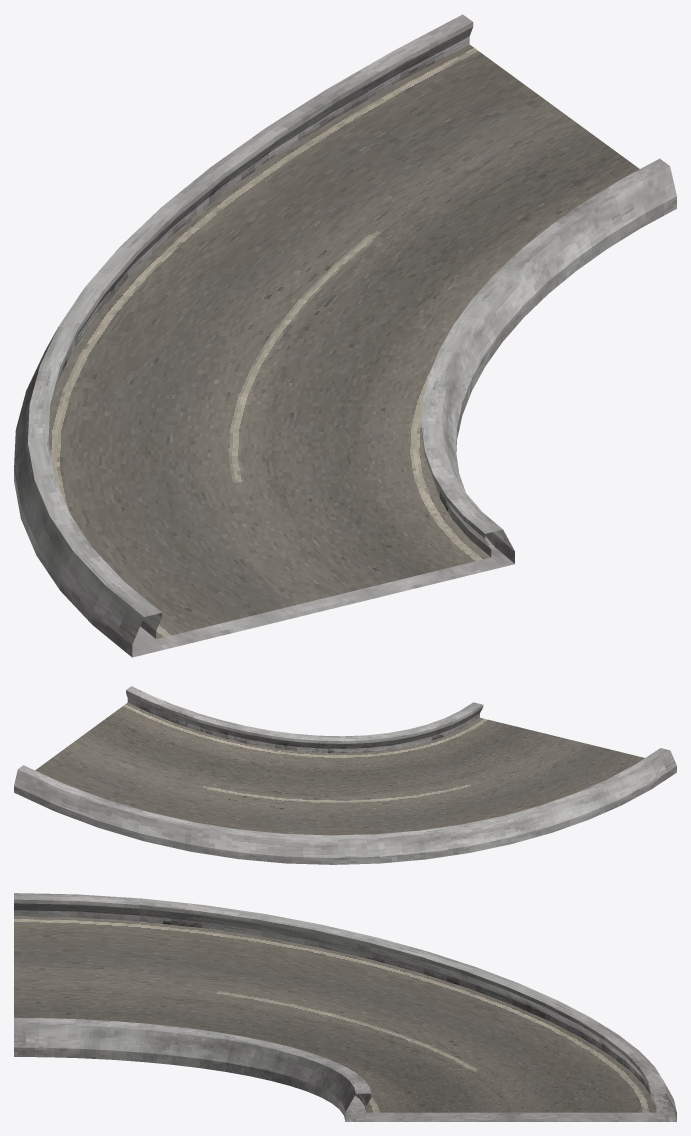
The model's file is turn-right2x2.glb.
3 views of the same model, one above another, from view 1: azimuth 30°, elevation 25°; view 2: azimuth 150°, elevation 25°; view 3: azimuth 270°, elevation 25° (orthographic). The views are drawn at different scales.
Visible parts, largest first — view 1: road-Turn-Flat-BiSlopeUp-Up1-Right-Size2; view 2: road-Turn-Flat-BiSlopeUp-Up1-Right-Size2; view 3: road-Turn-Flat-BiSlopeUp-Up1-Right-Size2.
Boxes of the visible parts, left/top/right/bottom form: road-Turn-Flat-BiSlopeUp-Up1-Right-Size2: left=14, top=14, right=676, bottom=657; road-Turn-Flat-BiSlopeUp-Up1-Right-Size2: left=14, top=686, right=676, bottom=864; road-Turn-Flat-BiSlopeUp-Up1-Right-Size2: left=14, top=893, right=676, bottom=1121.
Bounding box in the file's own units: 2 × 0.3444 × 2.
2 materials, 2 textured.
